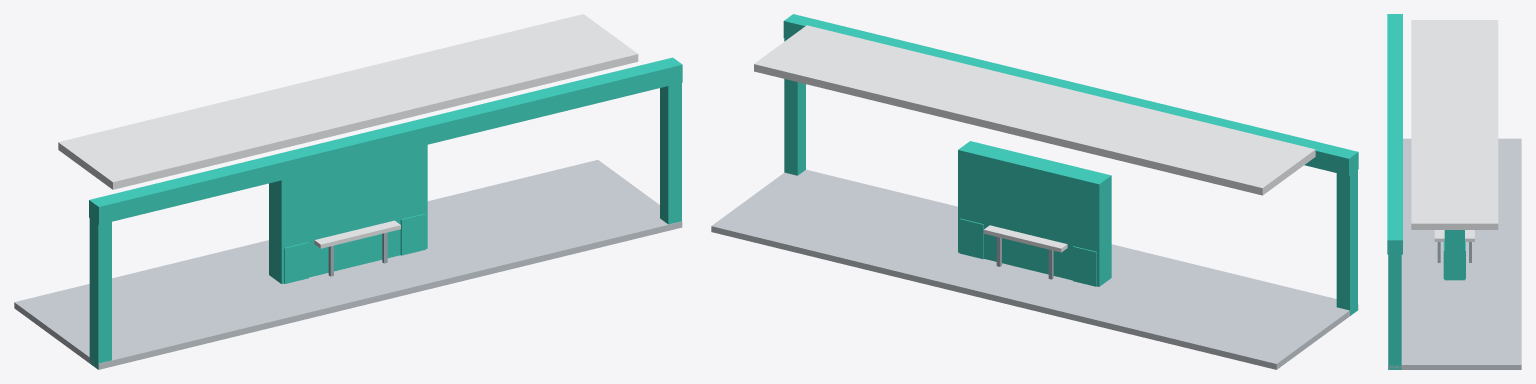
3 renders of one model, left to right at view 1: azimuth 30°, elevation 25°; view 2: azimuth 150°, elevation 25°; view 3: azimuth 270°, elevation 25°, orthographic. The views are drawn at different scales.
Parts seen in each view (by area): view 1: Exhibition Booth Concept; view 2: Exhibition Booth Concept; view 3: Exhibition Booth Concept.
Part boxes in pixels (x1=…): Exhibition Booth Concept: x1=14, y1=14, x2=682, y2=369; Exhibition Booth Concept: x1=711, y1=14, x2=1358, y2=369; Exhibition Booth Concept: x1=1387, y1=14, x2=1521, y2=369.
Size of the model in its own units: 12 by 3.34 by 3.01.
